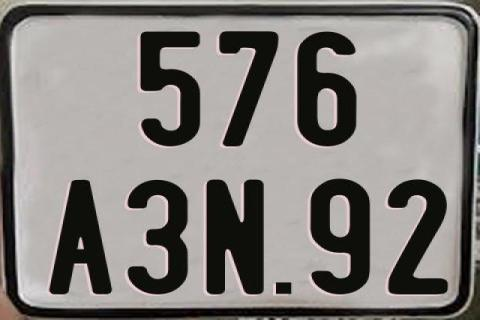0: (216, 30, 282, 146), (387, 180, 449, 300), (125, 180, 190, 294), (295, 29, 356, 150), (137, 29, 198, 149), (308, 179, 368, 295)
A: (48, 178, 114, 294)
N: (206, 177, 270, 293)
